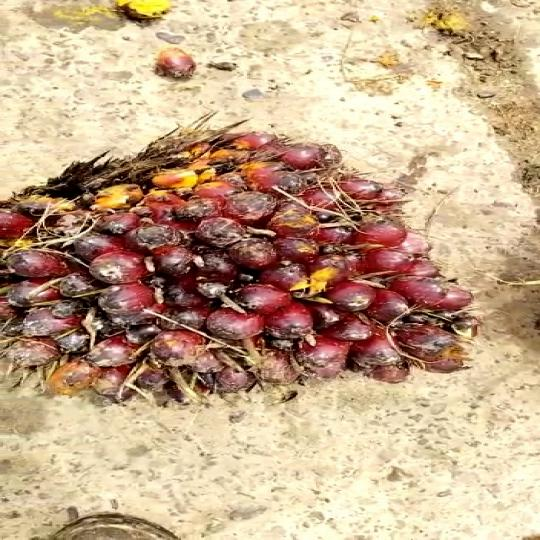kurang masak: (0, 110, 506, 428)
